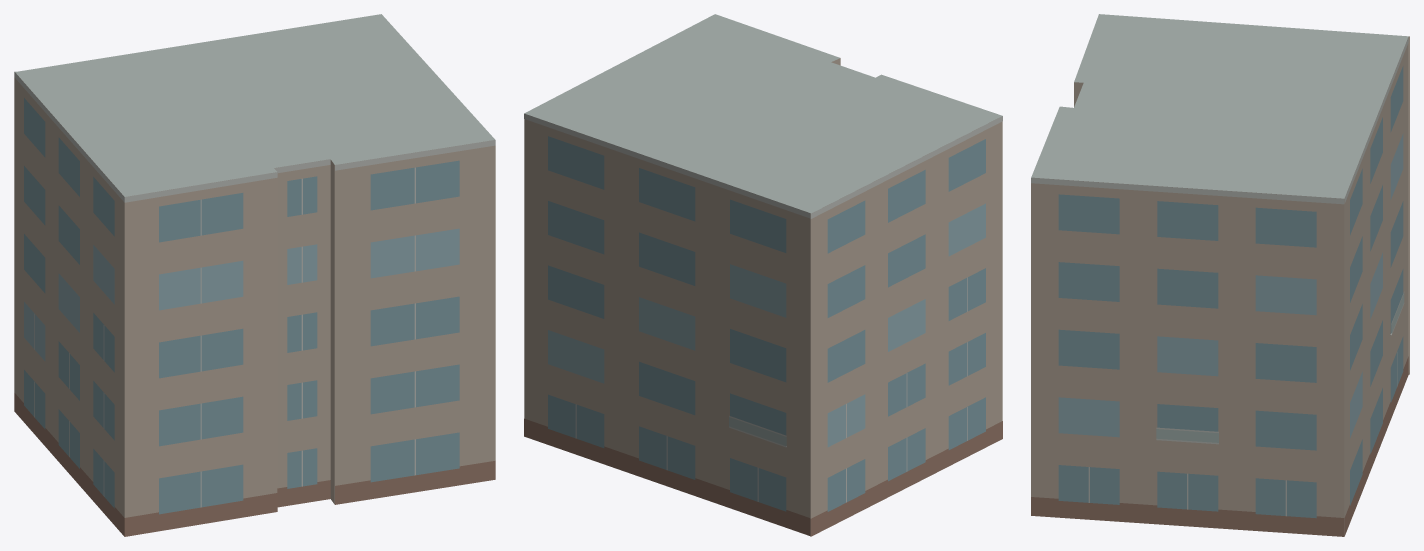
Rendered from survey-upis-32962853.glb.
The picture shows the model from 3 angles, left to right: view 1: azimuth 30°, elevation 25°; view 2: azimuth 150°, elevation 25°; view 3: azimuth 270°, elevation 25°; orthographic projection. The views are drawn at different scales.
Visible parts, largest first — view 1: survey-upis-32962853.tmp; view 2: survey-upis-32962853.tmp; view 3: survey-upis-32962853.tmp.
Boxes of the visible parts, x1,y1,x2,y2 form: survey-upis-32962853.tmp: [14, 14, 495, 536]; survey-upis-32962853.tmp: [524, 14, 1002, 536]; survey-upis-32962853.tmp: [1031, 14, 1409, 536].
Bounding box in the file's own units: 16.99 × 14.5 × 14.73.
